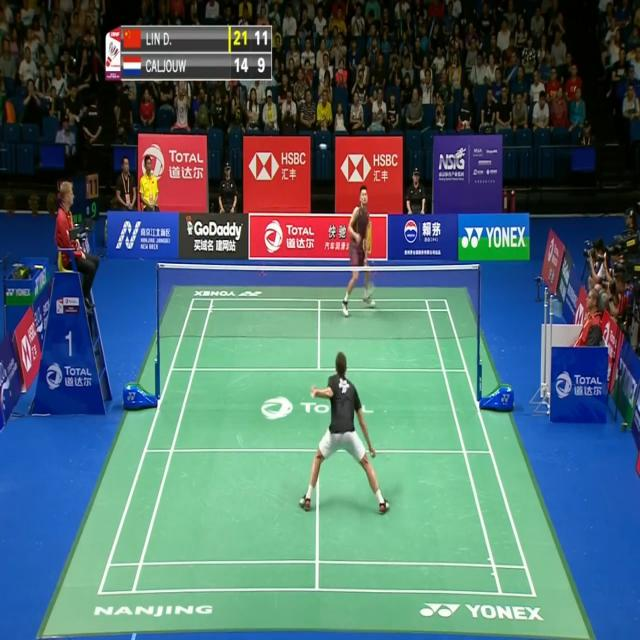Player1: (298, 348, 394, 518)
Player2: (341, 172, 381, 332)
